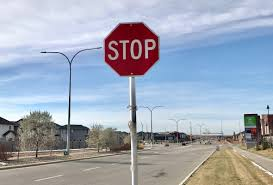stop: (103, 22, 159, 76)
